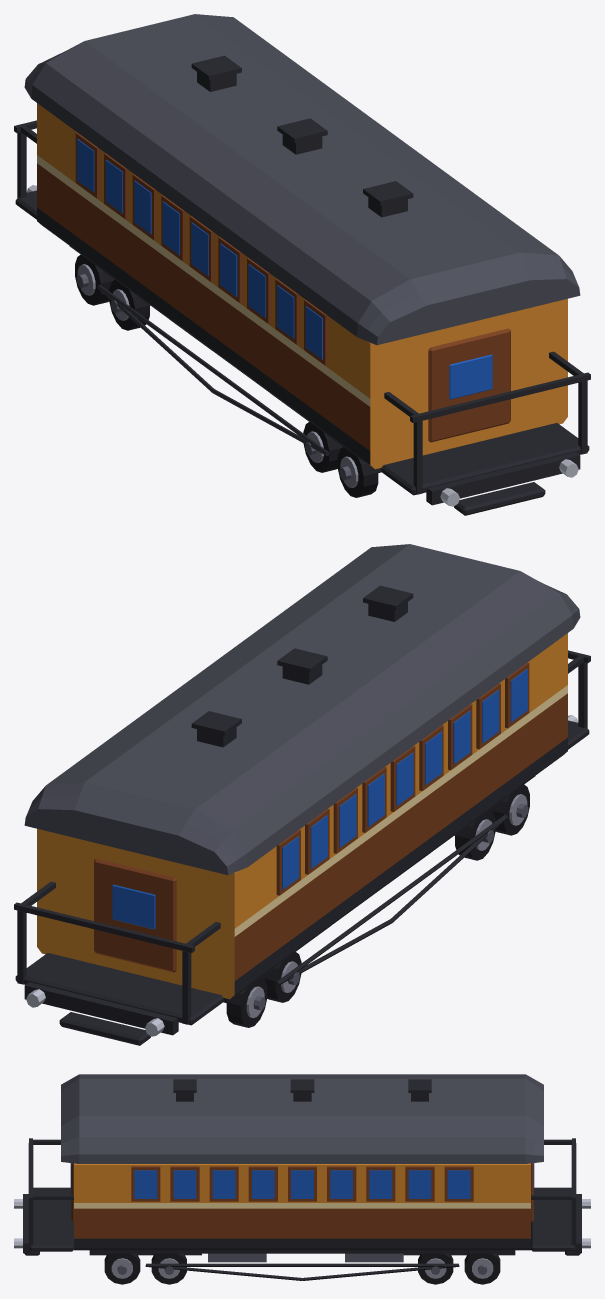
The model's file is steam-wagon.glb.
The picture shows the model from 3 angles, top to bottom: view 1: azimuth 30°, elevation 25°; view 2: azimuth 150°, elevation 25°; view 3: azimuth 270°, elevation 25°; orthographic projection. The views are drawn at different scales.
Visible parts, largest first — view 1: SteamWagon; view 2: SteamWagon; view 3: SteamWagon.
Part boxes in pixels (x1,y1,x2,y2): SteamWagon: [14, 14, 590, 515]; SteamWagon: [14, 544, 590, 1045]; SteamWagon: [14, 1074, 590, 1284].
Size of the model in its own units: 1.31 by 1.46 by 4.42.
1 material, 1 textured.
